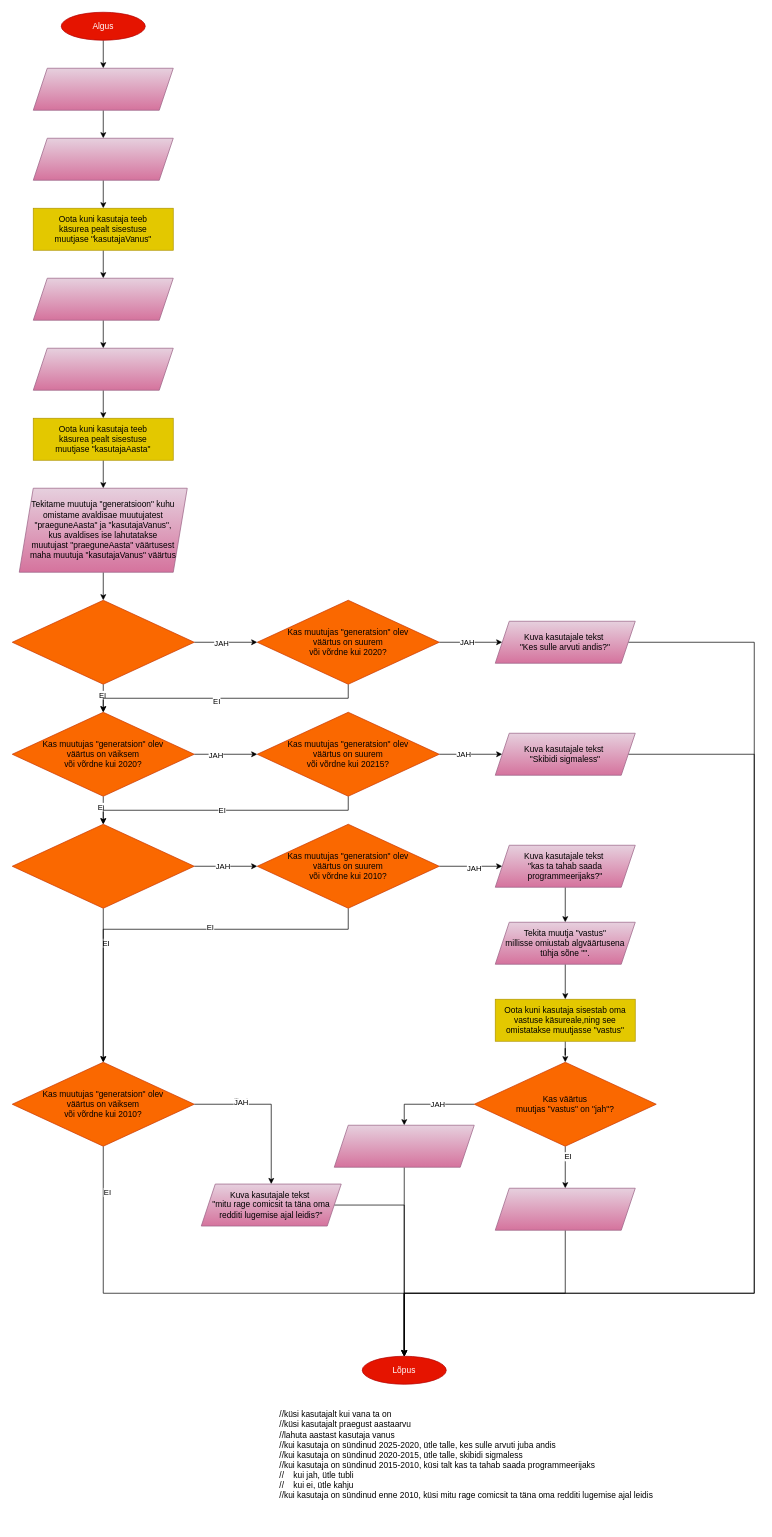
Image size: 772x1537. Some labels were removed from this diagram. The box of each missing label's shape, as (x1, y1, x2, y2) in pixels:
Kas muutujas "generatsion" olev väärtus on väiksem või võrdne kui 2015?: (12, 824, 194, 908)
Kas muutujas "generatsion" olev väärtus on väiksem või võrdne kui 2025?: (12, 600, 194, 684)
Kuva kasutajale tekst "Kahju": (495, 1188, 635, 1230)
Kuva kasutajale tekst "Kui vana sa oled?": (33, 68, 173, 110)
Kuva kasutajale tekst "Mis aasta hetkel kalendaris on?": (33, 278, 173, 320)
Kuva kasutajale tekst "Tubli": (334, 1125, 474, 1167)
Tekitame muutja "praeguAasta" millise omistame väärtuseks täisarvu 0: (33, 348, 173, 390)
Tekite muutuja "kasutajaVanus" millisse omistad alväärtuseks täisarvu 0: (33, 138, 173, 180)
